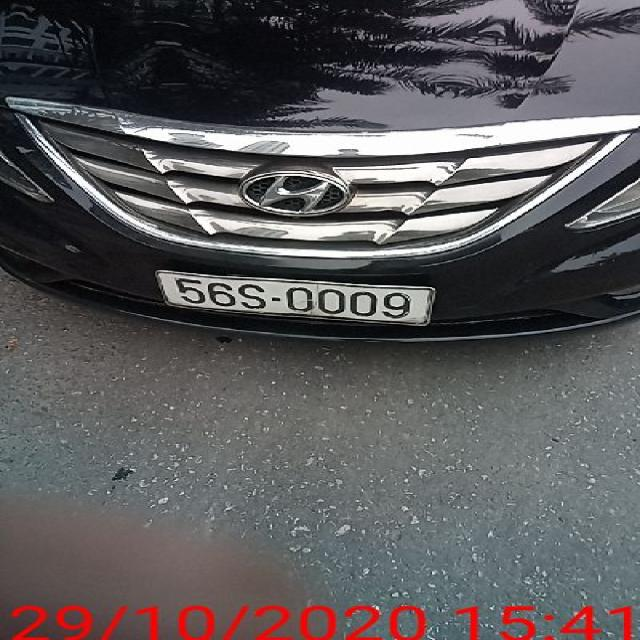car_plate: (142, 264, 456, 330)
